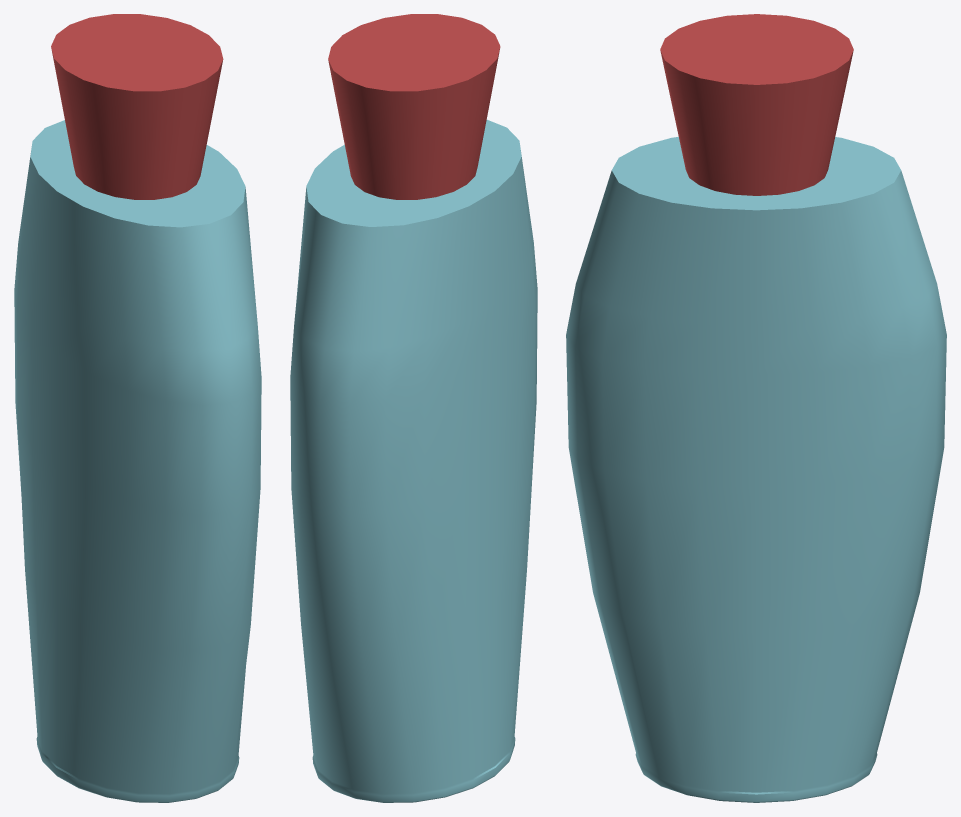
Rendered from Beauty_Product_0001.fbx.
3 renders of one model, left to right at view 1: azimuth 30°, elevation 25°; view 2: azimuth 150°, elevation 25°; view 3: azimuth 270°, elevation 25°, orthographic.
Visible parts, largest first — view 1: Beauty_Product_01; view 2: Beauty_Product_01; view 3: Beauty_Product_01.
Part boxes in pixels (x1,y1,x2,y2): Beauty_Product_01: (14,14,261,802); Beauty_Product_01: (290,14,537,802); Beauty_Product_01: (566,14,946,802).
Bounding box in the file's own units: 14.74 × 60.53 × 29.29.
